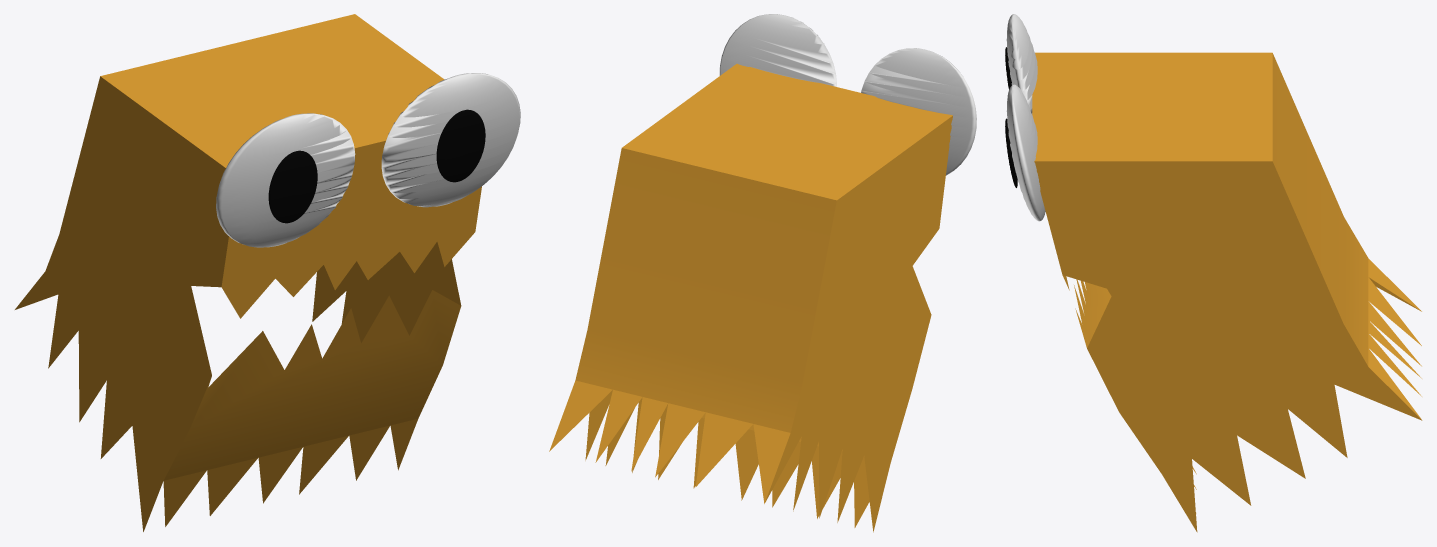
The model's file is Ghost.fbx.
3 renders of one model, left to right at view 1: azimuth 30°, elevation 25°; view 2: azimuth 150°, elevation 25°; view 3: azimuth 270°, elevation 25°, orthographic. The views are drawn at different scales.
Visible parts, largest first — view 1: pCube1, pSphere1, pSphere2; view 2: pCube1, pSphere1; view 3: pCube1, pSphere1.
Boxes of the visible parts, x1,y1,x2,y2 form: pCube1: (15,14,481,531); pSphere1: (216,73,520,247); pSphere2: (268,109,485,223); pCube1: (549,63,952,532); pSphere1: (719,14,976,175); pCube1: (1032,52,1422,532); pSphere1: (1006,14,1045,221).
Bounding box in the file's own units: 3.64 × 5.54 × 4.96.
